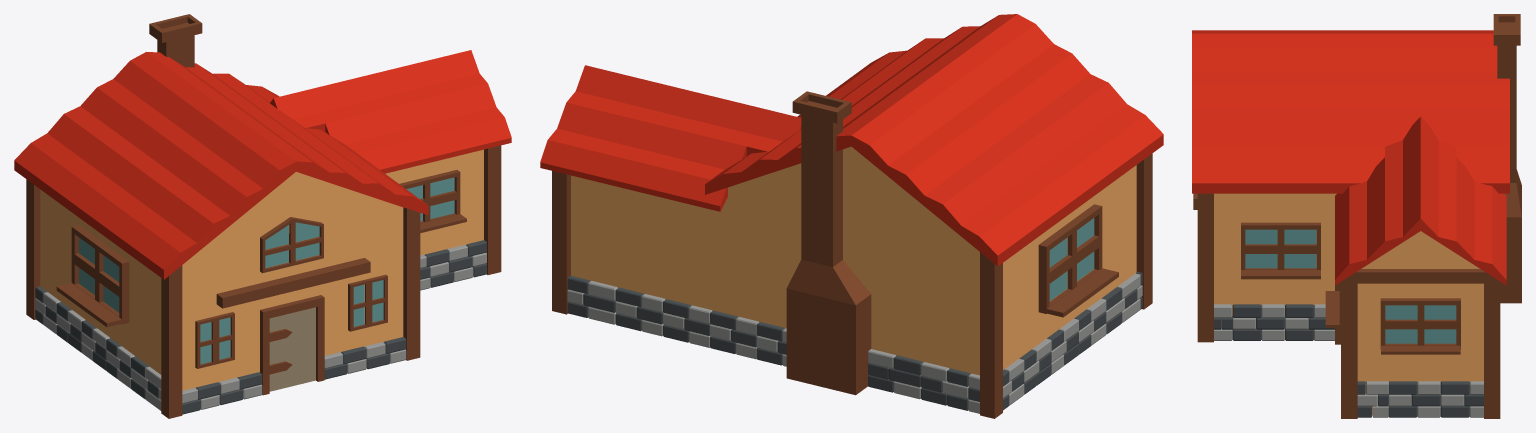
File: House_3.glb
3 views of the same model, side by side, from view 1: azimuth 30°, elevation 25°; view 2: azimuth 150°, elevation 25°; view 3: azimuth 270°, elevation 25° (orthographic). The views are drawn at different scales.
Parts seen in each view (by area): view 1: House 3; view 2: House 3; view 3: House 3.
Part boxes in pixels (x1=…): House 3: x1=14, y1=14, x2=511, y2=418; House 3: x1=540, y1=14, x2=1163, y2=418; House 3: x1=1192, y1=14, x2=1521, y2=418.
Bounding box in the file's own units: 8.87 × 5.01 × 5.61.
